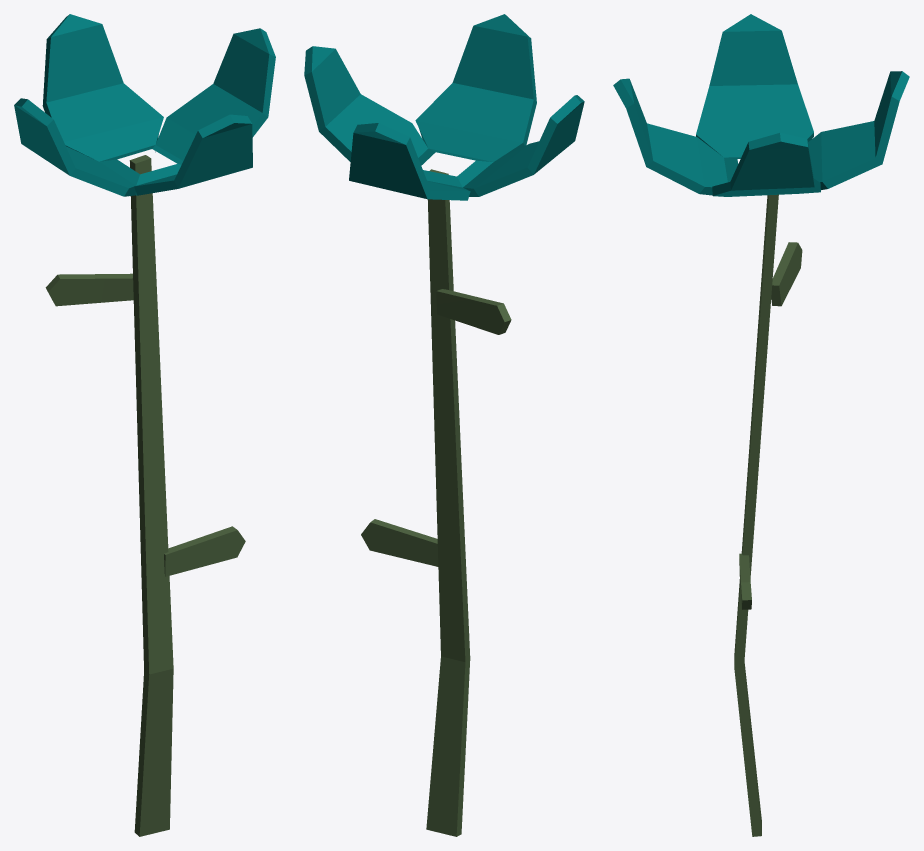
The model's file is flower-4.glb.
3 views of the same model, side by side, from view 1: azimuth 30°, elevation 25°; view 2: azimuth 150°, elevation 25°; view 3: azimuth 270°, elevation 25° (orthographic).
Parts seen in each view (by area): view 1: Flower_4; view 2: Flower_4; view 3: Flower_4.
Boxes of the visible parts, x1,y1,x2,y2 form: Flower_4: [14, 14, 275, 836]; Flower_4: [304, 14, 584, 836]; Flower_4: [613, 14, 909, 836].
Size of the model in its own units: 0.2918 by 0.8209 by 0.2926.
